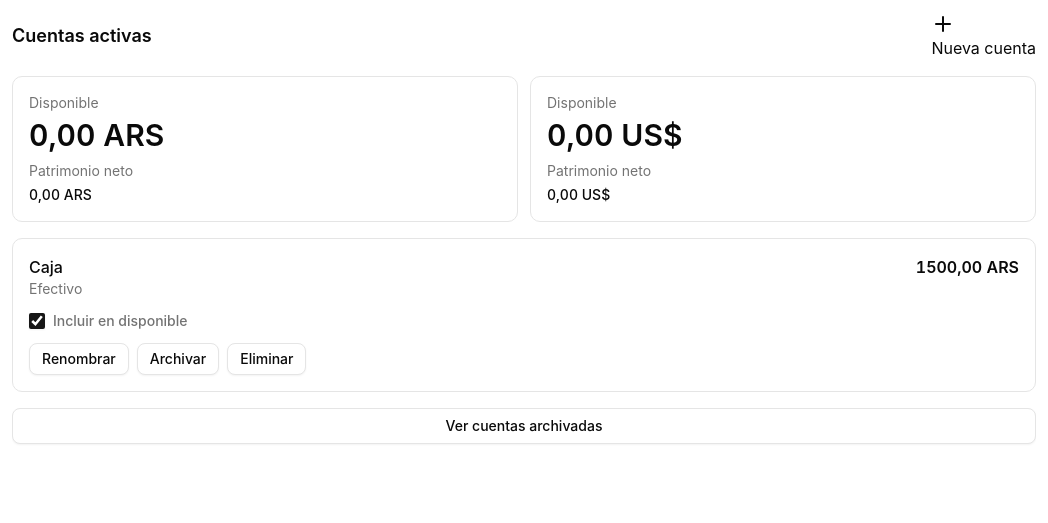
Scenario: AccountsContainer include in available setting › keeps the previous value and shows the alert on 409 ACCOUNT_ARCHIVED (AC-12)
The image size is (1048, 523).
Click the checkbox named "Caja": [37, 321] box top-left (29, 313), bottom-right (45, 329)
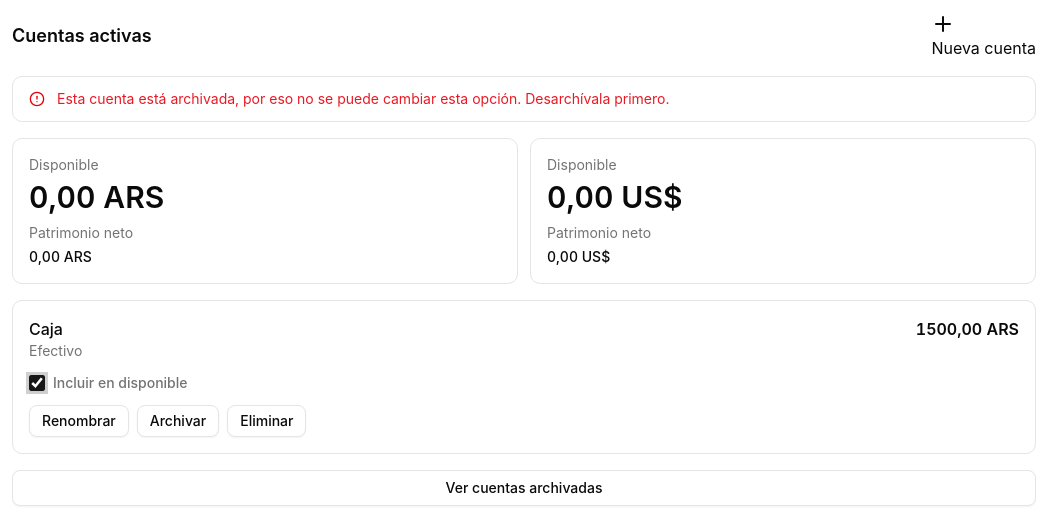
Expected: the message shows "Esta cuenta está archivada, por eso no se puede cambiar esta opción. Desarchívala primero.", top-left (57, 90), bottom-right (670, 107)
